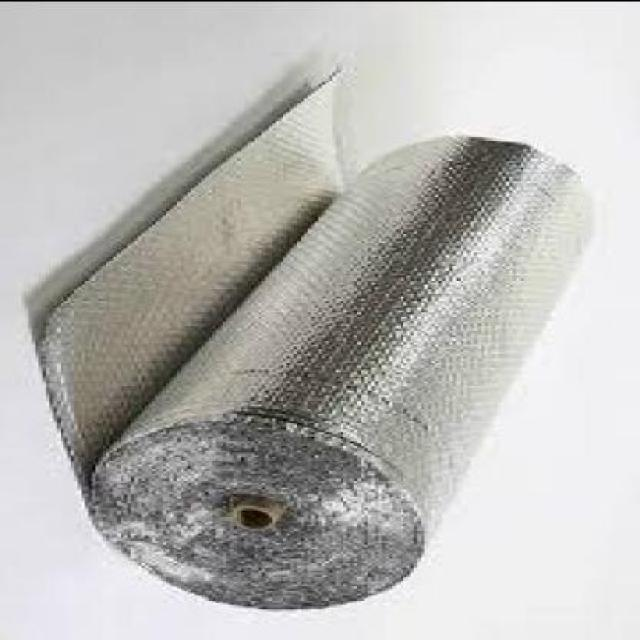METAL: (46, 70, 602, 612)
